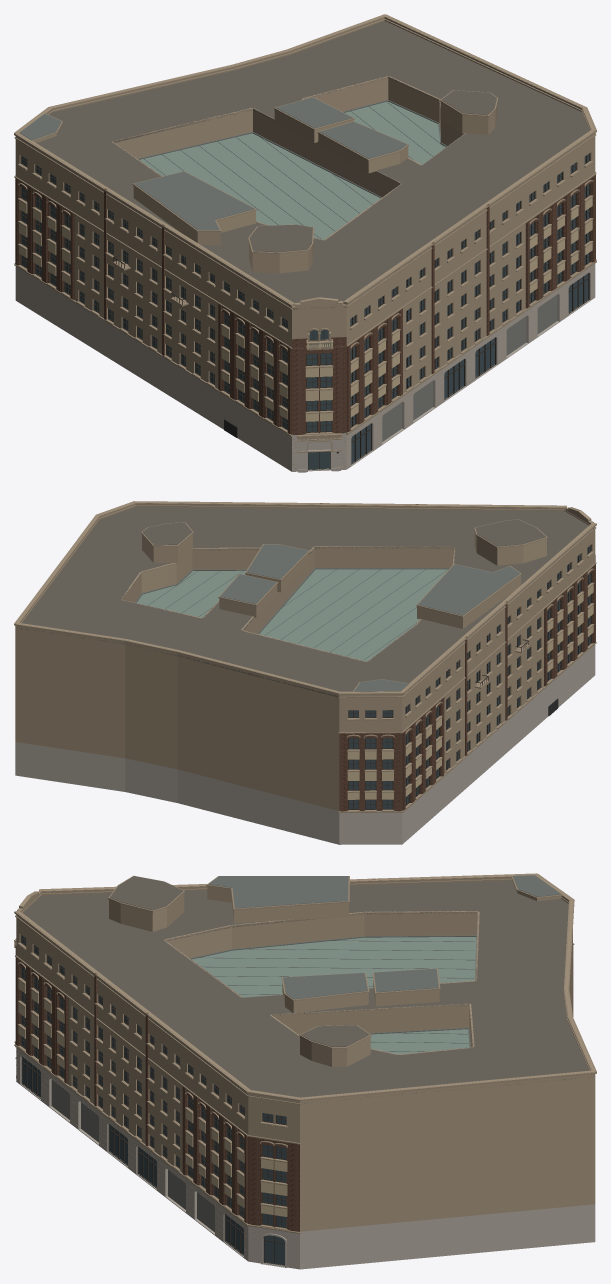
The model's file is hongkou-derring-apartments-corner-courts-lod.glb.
3 renders of one model, top to bottom at view 1: azimuth 30°, elevation 25°; view 2: azimuth 150°, elevation 25°; view 3: azimuth 270°, elevation 25°, orthographic. The views are drawn at different scales.
Visible parts, largest first — view 1: 德邻公寓街角与双天井; view 2: 德邻公寓街角与双天井; view 3: 德邻公寓街角与双天井.
Part boxes in pixels (left/top/right/bottom): 德邻公寓街角与双天井: left=14, top=14, right=596, bottom=472; 德邻公寓街角与双天井: left=14, top=501, right=596, bottom=844; 德邻公寓街角与双天井: left=14, top=873, right=596, bottom=1269.
Size of the model in its own units: 62.41 by 24.16 by 67.87.
13 materials, 1 textured.
